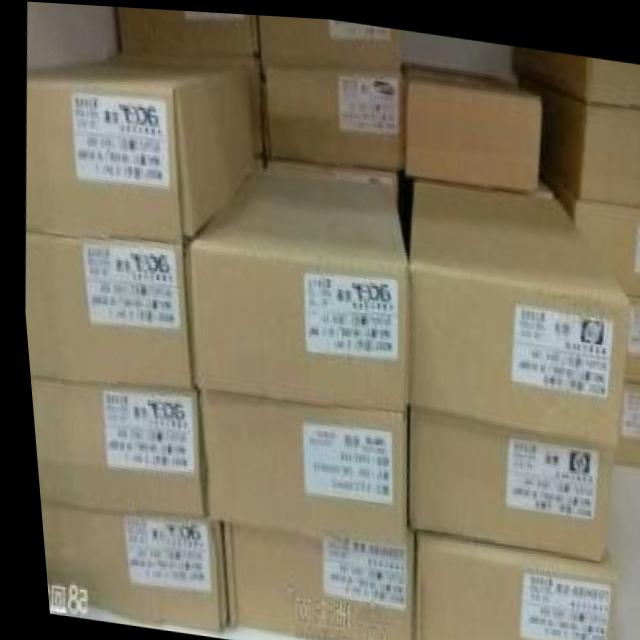box: (400, 176, 621, 440), (180, 167, 403, 409), (24, 54, 251, 234), (401, 402, 607, 559), (192, 390, 400, 543), (21, 232, 185, 389), (24, 374, 200, 515), (213, 516, 407, 640), (32, 499, 216, 629), (403, 528, 607, 640), (401, 59, 543, 179), (516, 74, 640, 199), (261, 63, 400, 166), (538, 156, 640, 287), (256, 12, 402, 65), (510, 42, 640, 101), (262, 152, 395, 209), (117, 5, 258, 58), (608, 371, 640, 456), (618, 288, 640, 374), (244, 58, 263, 153)
